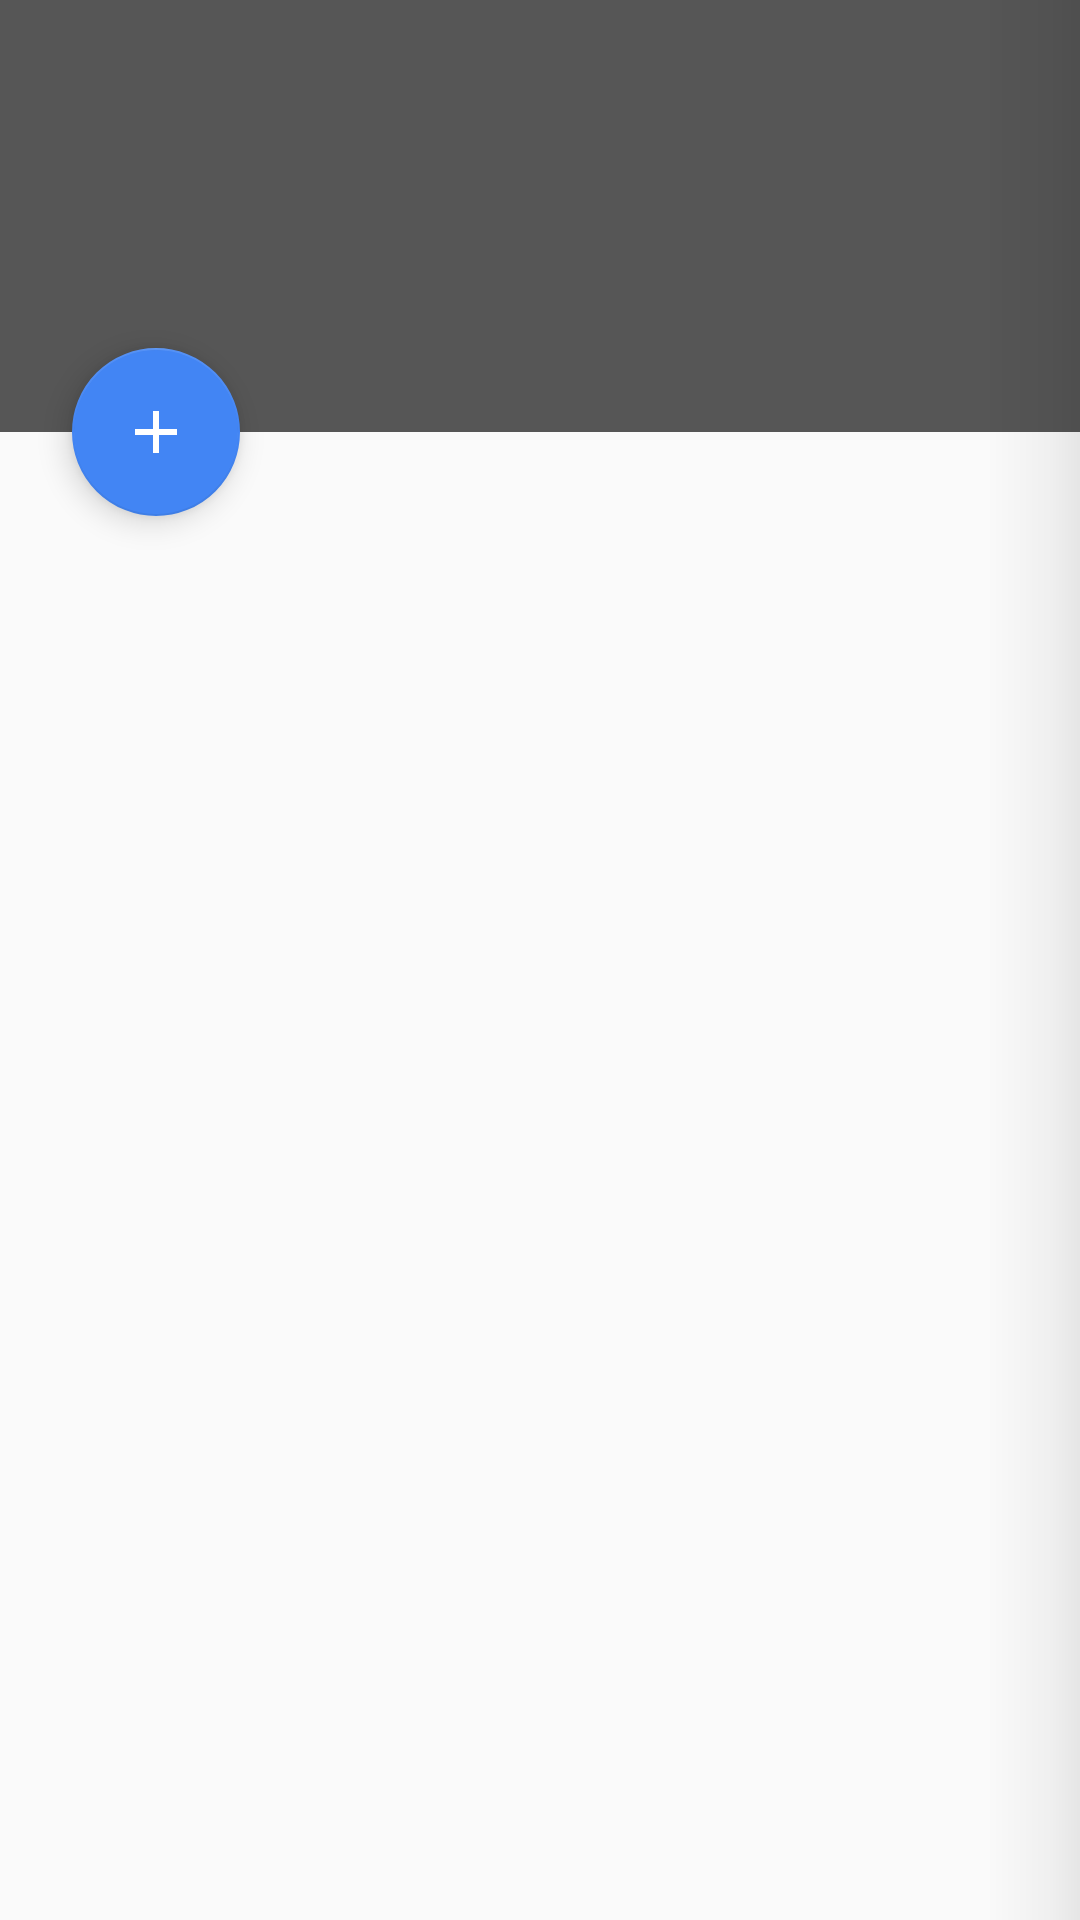

Named icons in this screenshot (1080*1920) and their centers, [x,y]:
add: [156,432]
